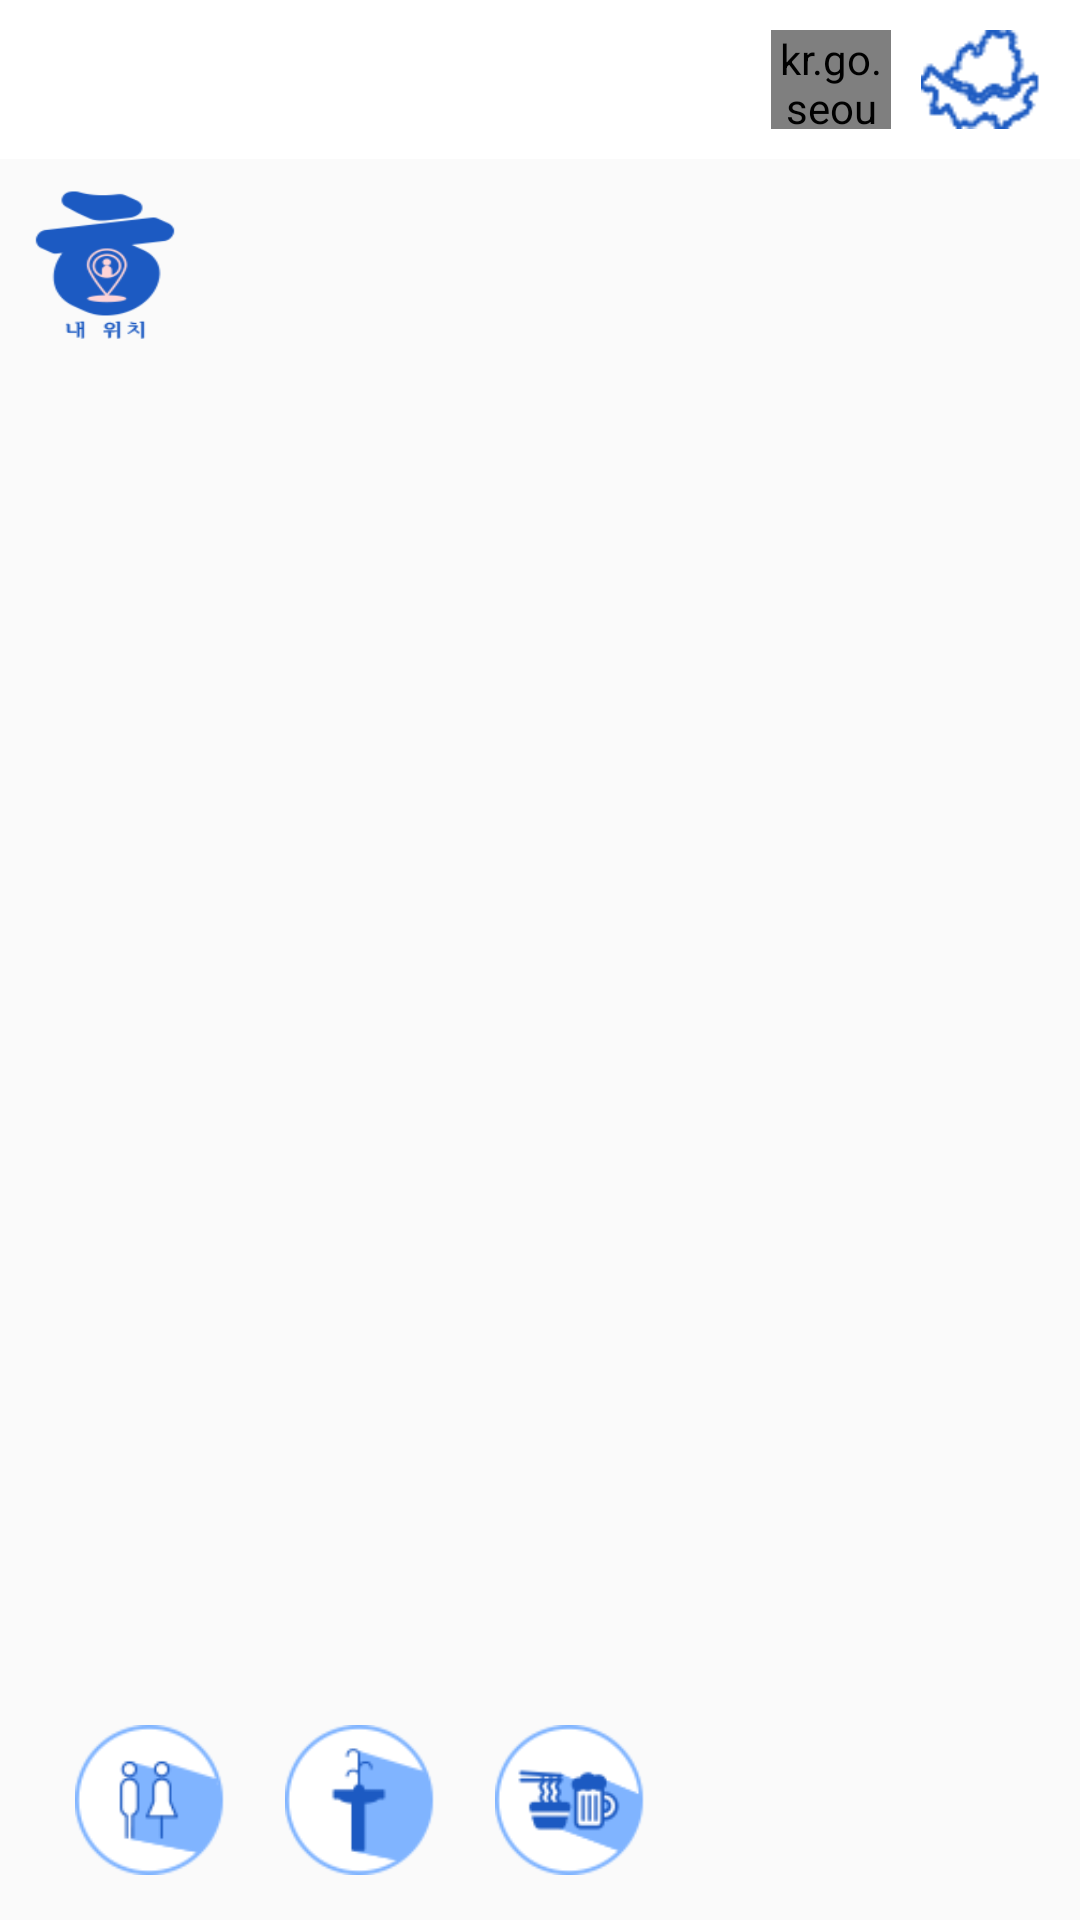

Locate icon controls on the screen. Image size 1080x1920, boxes as (x1, y1, x2, y2).
drink unpressed: (285, 1725, 433, 1875)
market unpressed: (495, 1725, 644, 1875)
toilet unpressed: (75, 1725, 224, 1875)
